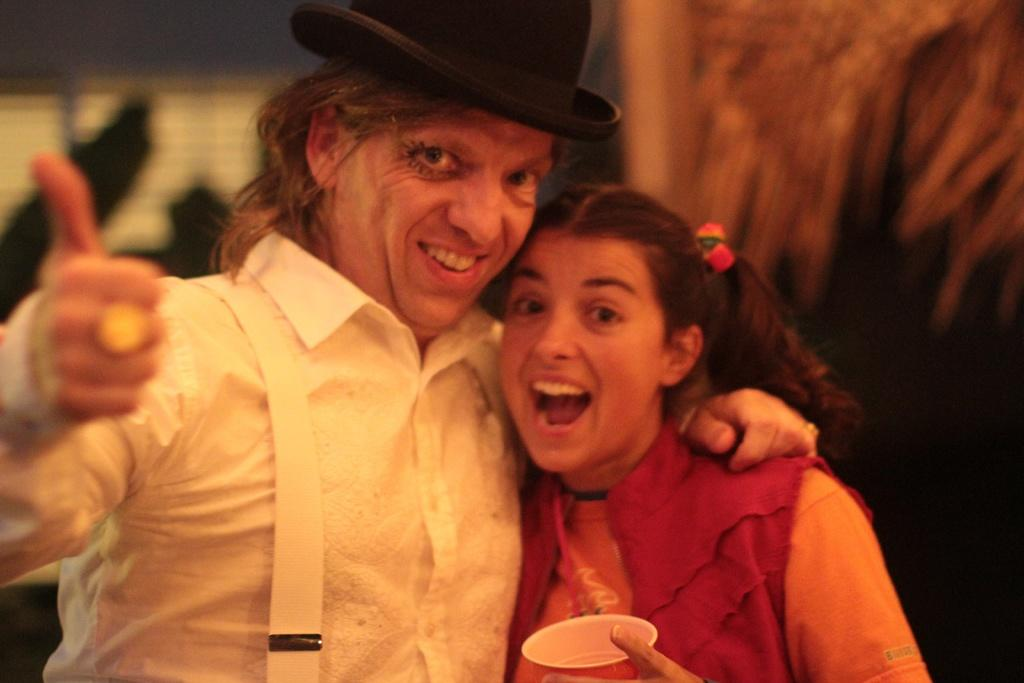Hat: (292, 0, 626, 142)
